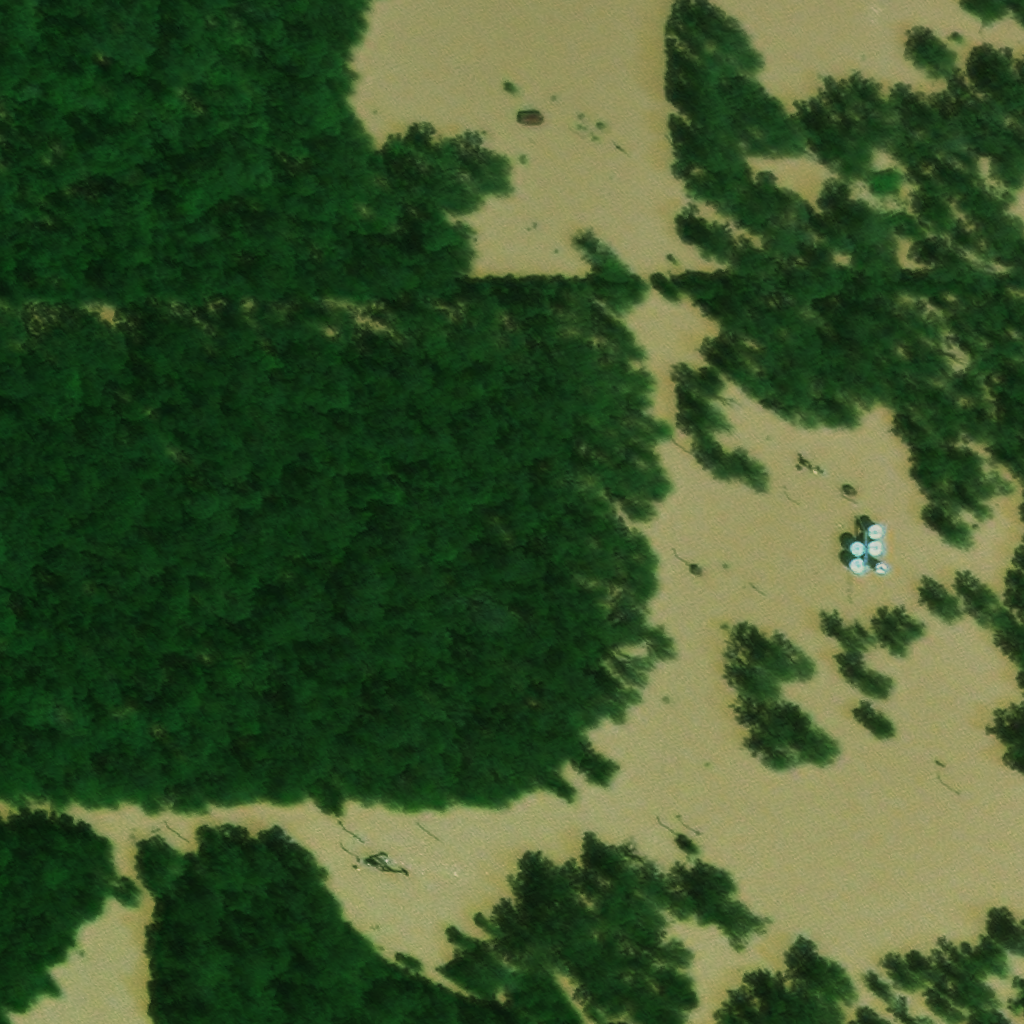major_damage: (523, 114, 546, 132), (846, 537, 862, 553), (864, 521, 879, 537), (847, 555, 862, 570), (865, 538, 879, 552), (867, 554, 878, 567)
